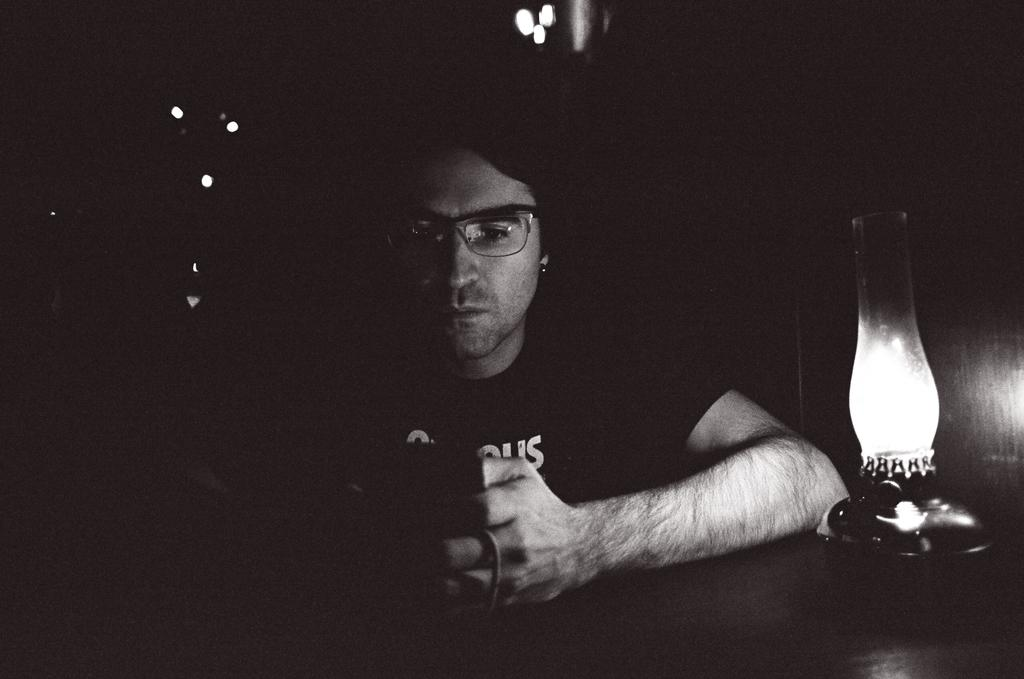Sem Máscara: (382, 151, 537, 358)
